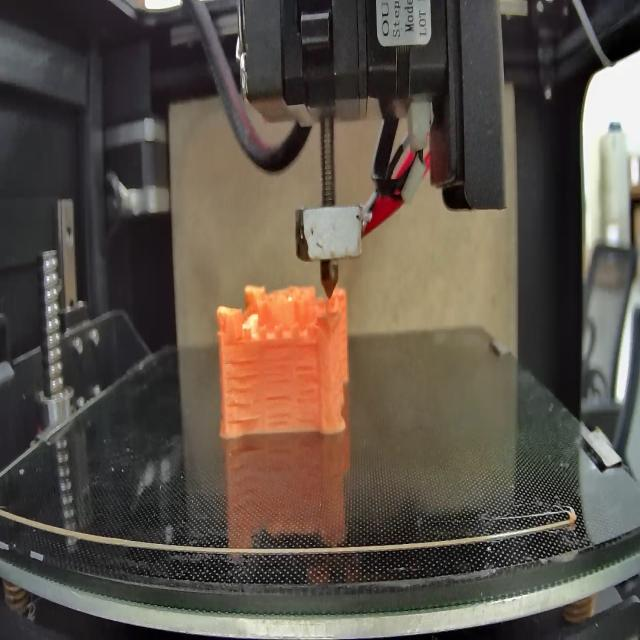cracks: (225, 356, 262, 423), (294, 360, 322, 406), (264, 392, 291, 424), (265, 357, 291, 384), (298, 412, 322, 425)
